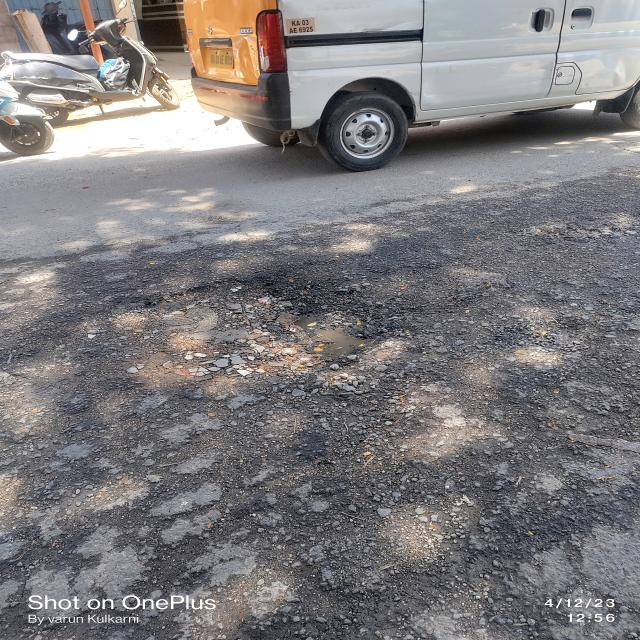potholes: (88, 272, 398, 402)
